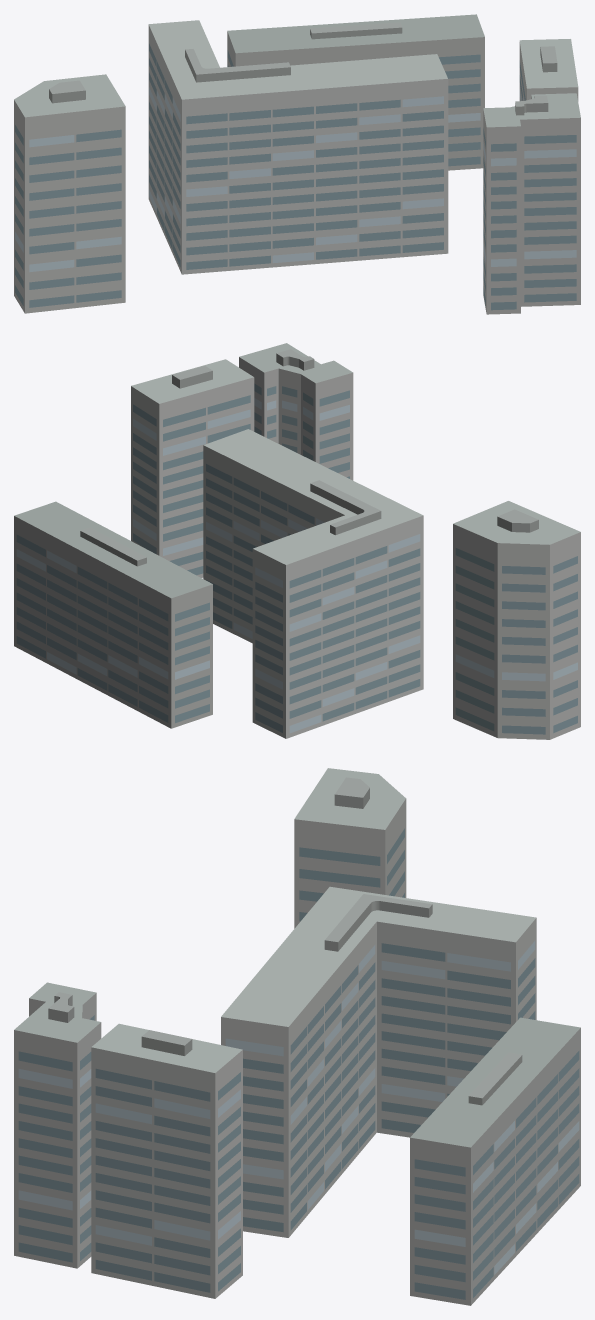
The model's file is apt-a13486401.glb.
3 renders of one model, top to bottom at view 1: azimuth 30°, elevation 25°; view 2: azimuth 150°, elevation 25°; view 3: azimuth 270°, elevation 25°, orthographic. The views are drawn at different scales.
Visible parts, largest first — view 1: apt-a13486401; view 2: apt-a13486401; view 3: apt-a13486401.
Boxes of the visible parts, <box> form: apt-a13486401: <box>14,14,580,314</box>; apt-a13486401: <box>14,343,580,739</box>; apt-a13486401: <box>14,768,580,1305</box>.
Size of the model in its own units: 112 by 43 by 89.1.
